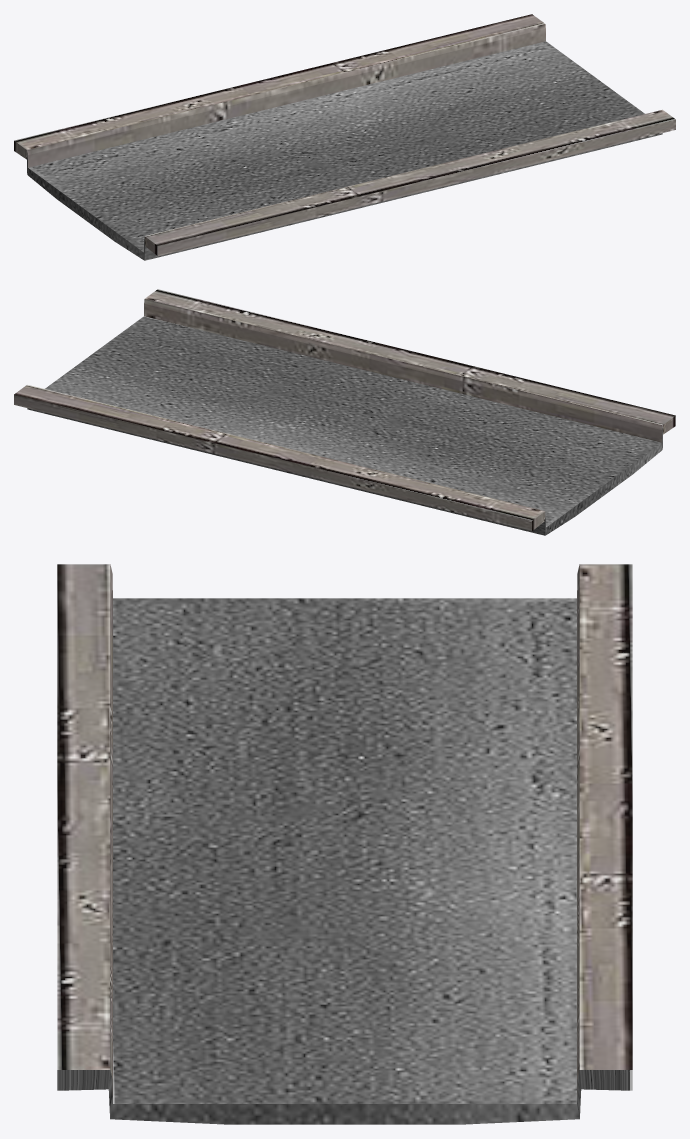
File: calle1.fbx
3 views of the same model, one above another, from view 1: azimuth 30°, elevation 25°; view 2: azimuth 150°, elevation 25°; view 3: azimuth 270°, elevation 25° (orthographic). The views are drawn at different scales.
Visible parts, largest first — view 1: 4in 2.008; view 2: 4in 2.008; view 3: 4in 2.008.
Part boxes in pixels (left/top/right/bottom): 4in 2.008: left=14, top=14, right=675, bottom=260; 4in 2.008: left=14, top=289, right=675, bottom=535; 4in 2.008: left=57, top=564, right=632, bottom=1124.
Size of the model in its own units: 563 by 28.39 by 271.
